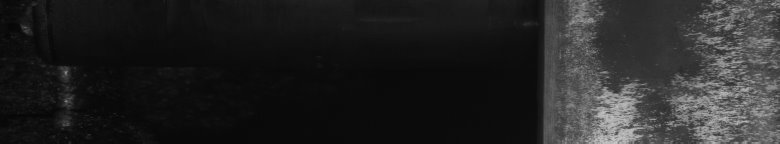kb: (560, 4, 776, 136)
